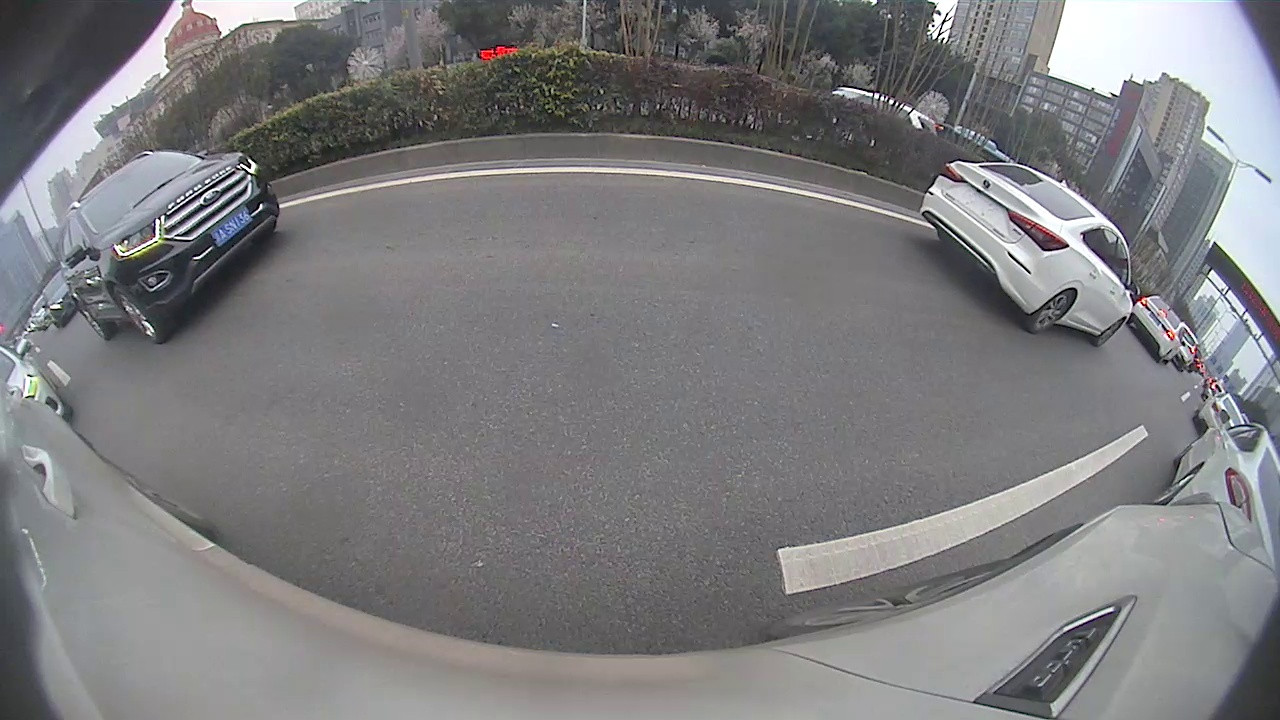car: (60, 147, 279, 347), (917, 158, 1142, 349), (1152, 410, 1279, 547), (1127, 296, 1190, 367)
front: (116, 289, 162, 347), (1098, 318, 1124, 347)
rear: (1028, 289, 1076, 334), (75, 299, 110, 343)
